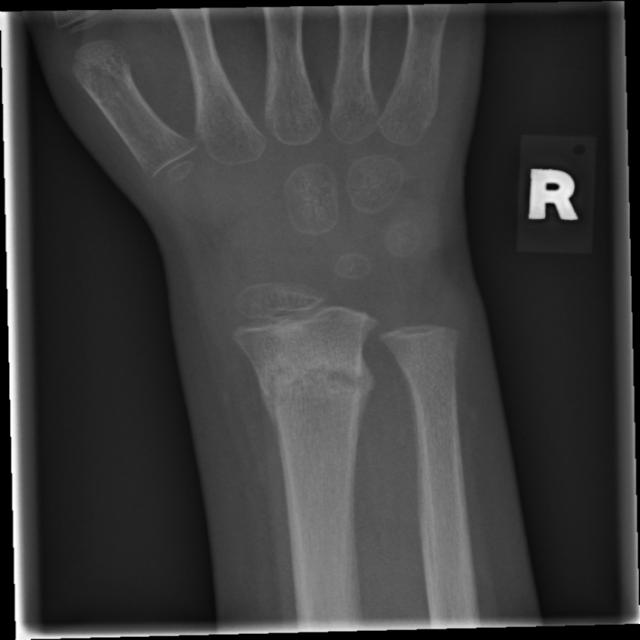radius fracture: (238, 346, 395, 510)
